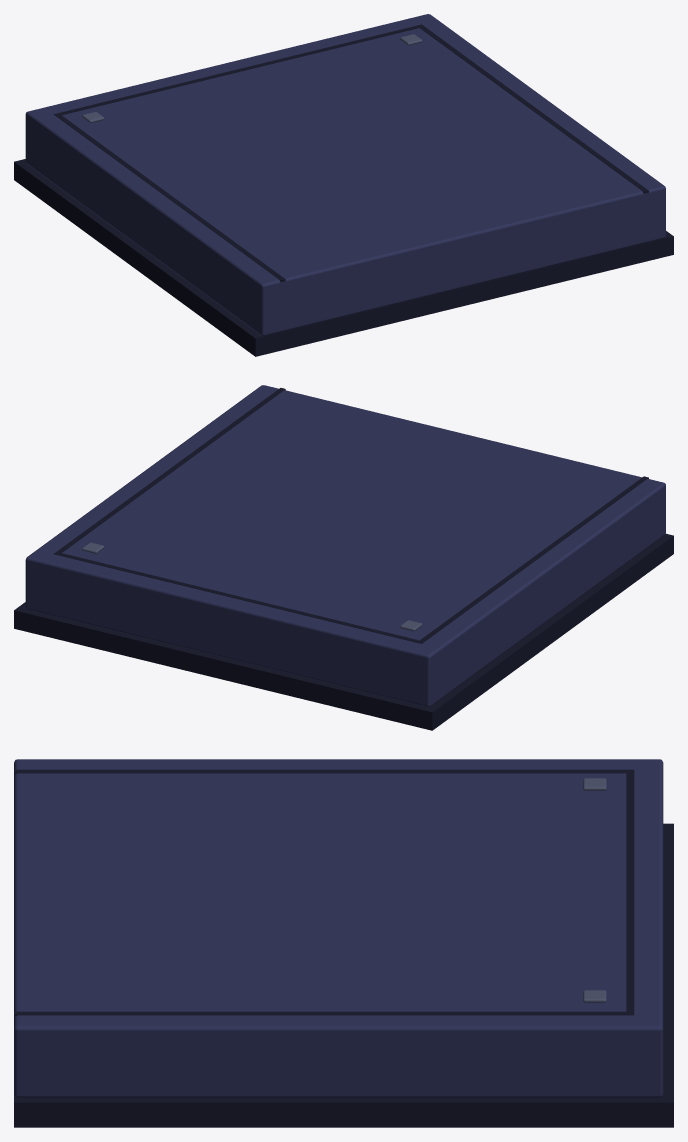
The model's file is roof.skin.square.WEN.glb.
The picture shows the model from 3 angles, top to bottom: view 1: azimuth 30°, elevation 25°; view 2: azimuth 150°, elevation 25°; view 3: azimuth 270°, elevation 25°; orthographic projection. The views are drawn at different scales.
Visible parts, largest first — view 1: roof.skin.square.WEN; view 2: roof.skin.square.WEN; view 3: roof.skin.square.WEN.
Part boxes in pixels (bbox=[...]): roof.skin.square.WEN: bbox=[14, 14, 673, 356]; roof.skin.square.WEN: bbox=[14, 385, 673, 730]; roof.skin.square.WEN: bbox=[14, 759, 673, 1127].
Size of the model in its own units: 1 by 0.167 by 1.
